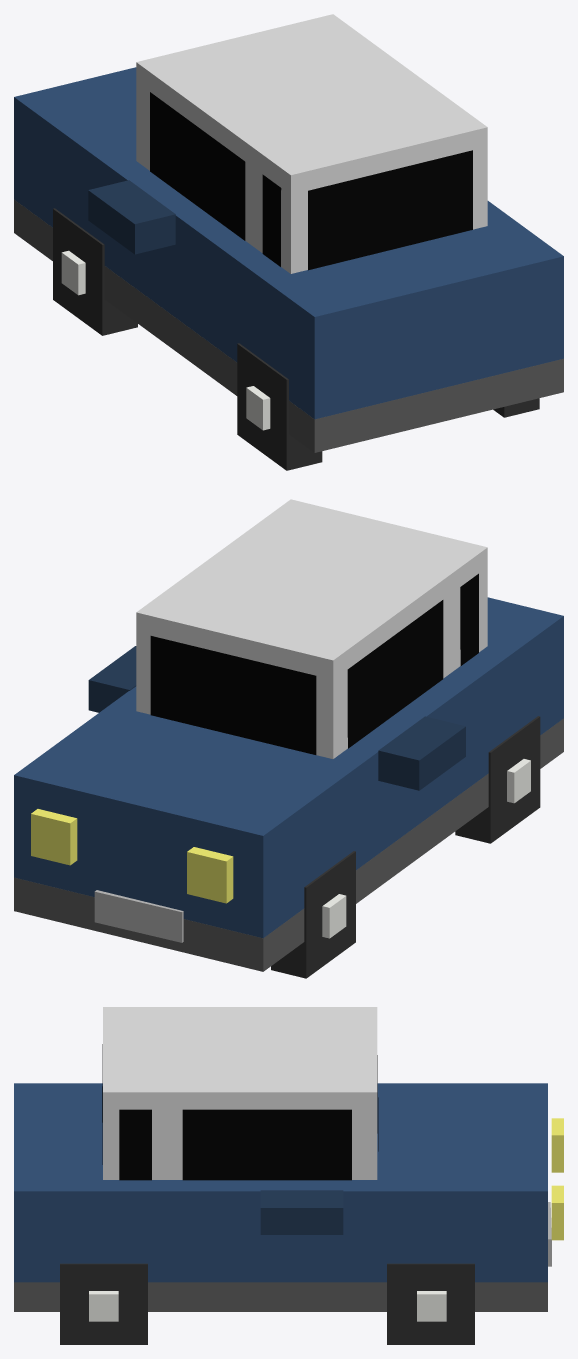
File: car2.gltf
3 renders of one model, top to bottom at view 1: azimuth 30°, elevation 25°; view 2: azimuth 150°, elevation 25°; view 3: azimuth 270°, elevation 25°, orthographic. The views are drawn at different scales.
Visible parts, largest first — view 1: techo.001; view 2: techo.001; view 3: techo.001.
Boxes of the visible parts, x1,y1,x2,y2 form: techo.001: (14, 14, 563, 470); techo.001: (14, 499, 563, 978); techo.001: (14, 1007, 563, 1344).
Size of the model in its own units: 12.61 by 9.87 by 20.46.
